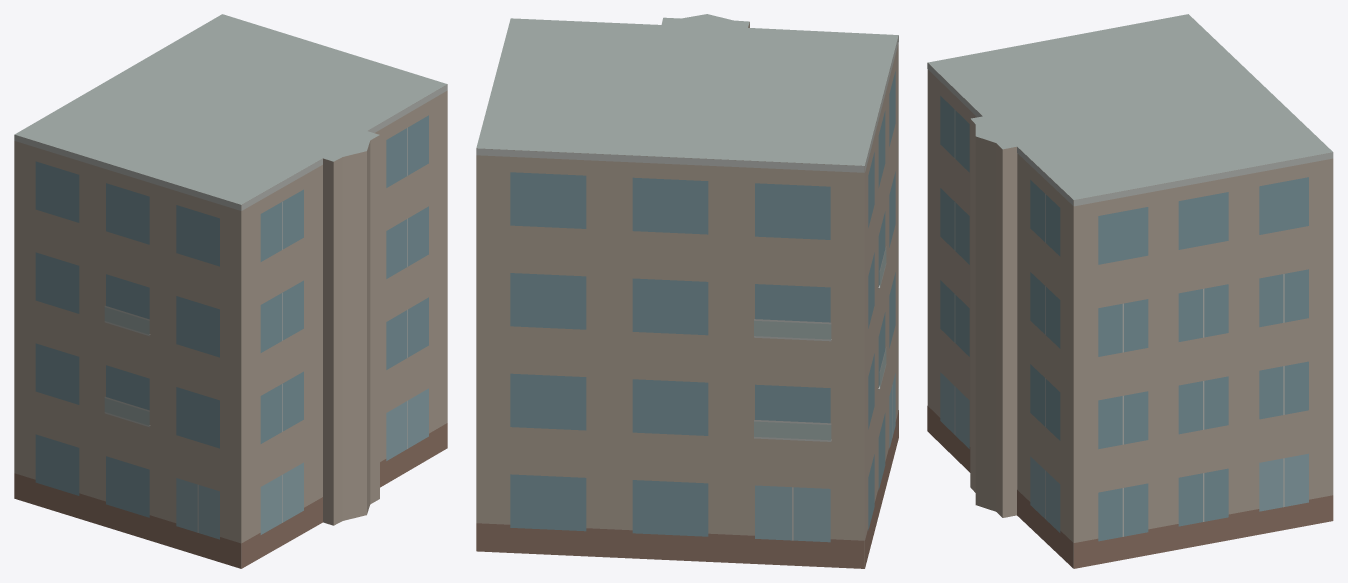
File: survey-upis-32584651.glb
3 renders of one model, left to right at view 1: azimuth 30°, elevation 25°; view 2: azimuth 150°, elevation 25°; view 3: azimuth 270°, elevation 25°, orthographic. The views are drawn at different scales.
Visible parts, largest first — view 1: survey-upis-32584651.tmp; view 2: survey-upis-32584651.tmp; view 3: survey-upis-32584651.tmp.
Part boxes in pixels (x1,y1,x2,y2): survey-upis-32584651.tmp: (14, 14, 447, 568); survey-upis-32584651.tmp: (476, 14, 898, 568); survey-upis-32584651.tmp: (927, 14, 1333, 568).
Size of the model in its own units: 15.38 by 14.2 by 14.17.
